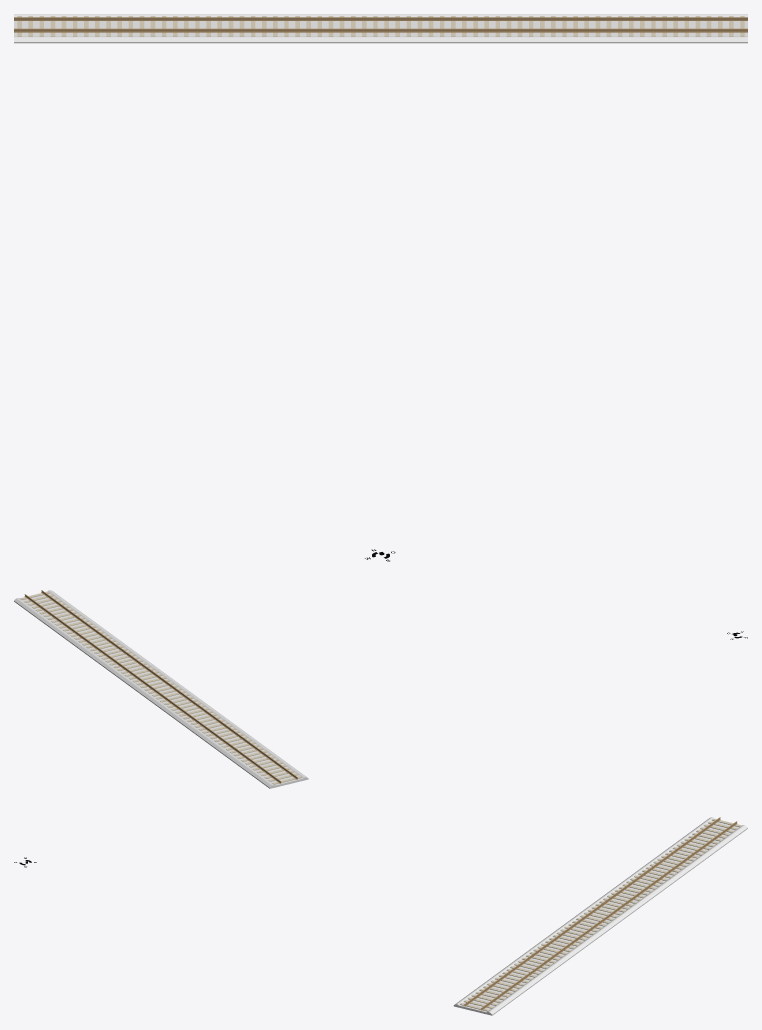
3 views of the same model, one above another, from view 1: azimuth 30°, elevation 25°; view 2: azimuth 150°, elevation 25°; view 3: azimuth 270°, elevation 25° (orthographic). The views are drawn at different scales.
Visible parts, largest first — view 1: product-9f73d70e-4ec9-4ec1-a329-06f70bd43e55-body, product-895e868d-bc9d-406d-9751-1cf103801468-body, product-d2ef400a-be48-4265-b00e-9d6a6054426c-body, product-446090d4-3111-4c9b-aa92-e51d6a8ce86d-body, product-2a60e2c3-c796-48e8-8942-ec79ee338d4b-body, product-bf9bd76c-190d-4a47-b9c1-1243466b0c26-body; view 2: product-9f73d70e-4ec9-4ec1-a329-06f70bd43e55-body, product-895e868d-bc9d-406d-9751-1cf103801468-body, product-2a60e2c3-c796-48e8-8942-ec79ee338d4b-body, product-d2ef400a-be48-4265-b00e-9d6a6054426c-body, product-446090d4-3111-4c9b-aa92-e51d6a8ce86d-body, product-bf9bd76c-190d-4a47-b9c1-1243466b0c26-body; view 3: product-895e868d-bc9d-406d-9751-1cf103801468-body, product-9f73d70e-4ec9-4ec1-a329-06f70bd43e55-body, product-446090d4-3111-4c9b-aa92-e51d6a8ce86d-body, product-bf9bd76c-190d-4a47-b9c1-1243466b0c26-body, product-d2ef400a-be48-4265-b00e-9d6a6054426c-body, product-2a60e2c3-c796-48e8-8942-ec79ee338d4b-body.
Boxes of the visible parts, x1=… form: product-9f73d70e-4ec9-4ec1-a329-06f70bd43e55-body: x1=14, y1=14, x2=380, y2=43; product-895e868d-bc9d-406d-9751-1cf103801468-body: x1=381, y1=14, x2=747, y2=43; product-d2ef400a-be48-4265-b00e-9d6a6054426c-body: x1=14, y1=28, x2=380, y2=32; product-446090d4-3111-4c9b-aa92-e51d6a8ce86d-body: x1=381, y1=28, x2=747, y2=32; product-2a60e2c3-c796-48e8-8942-ec79ee338d4b-body: x1=14, y1=17, x2=380, y2=20; product-bf9bd76c-190d-4a47-b9c1-1243466b0c26-body: x1=381, y1=17, x2=747, y2=20; product-9f73d70e-4ec9-4ec1-a329-06f70bd43e55-body: x1=142, y1=683, x2=308, y2=788; product-895e868d-bc9d-406d-9751-1cf103801468-body: x1=14, y1=590, x2=179, y2=694; product-2a60e2c3-c796-48e8-8942-ec79ee338d4b-body: x1=152, y1=688, x2=281, y2=783; product-d2ef400a-be48-4265-b00e-9d6a6054426c-body: x1=169, y1=684, x2=297, y2=779; product-446090d4-3111-4c9b-aa92-e51d6a8ce86d-body: x1=41, y1=590, x2=169, y2=685; product-bf9bd76c-190d-4a47-b9c1-1243466b0c26-body: x1=24, y1=594, x2=152, y2=689; product-895e868d-bc9d-406d-9751-1cf103801468-body: x1=453, y1=910, x2=620, y2=1015; product-9f73d70e-4ec9-4ec1-a329-06f70bd43e55-body: x1=583, y1=817, x2=747, y2=921; product-446090d4-3111-4c9b-aa92-e51d6a8ce86d-body: x1=464, y1=911, x2=592, y2=1006; product-bf9bd76c-190d-4a47-b9c1-1243466b0c26-body: x1=480, y1=915, x2=609, y2=1010; product-d2ef400a-be48-4265-b00e-9d6a6054426c-body: x1=592, y1=817, x2=720, y2=912; product-2a60e2c3-c796-48e8-8942-ec79ee338d4b-body: x1=609, y1=821, x2=737, y2=916.
Size of the model in its own units: 45.14 by 7.77 by 57.42.
